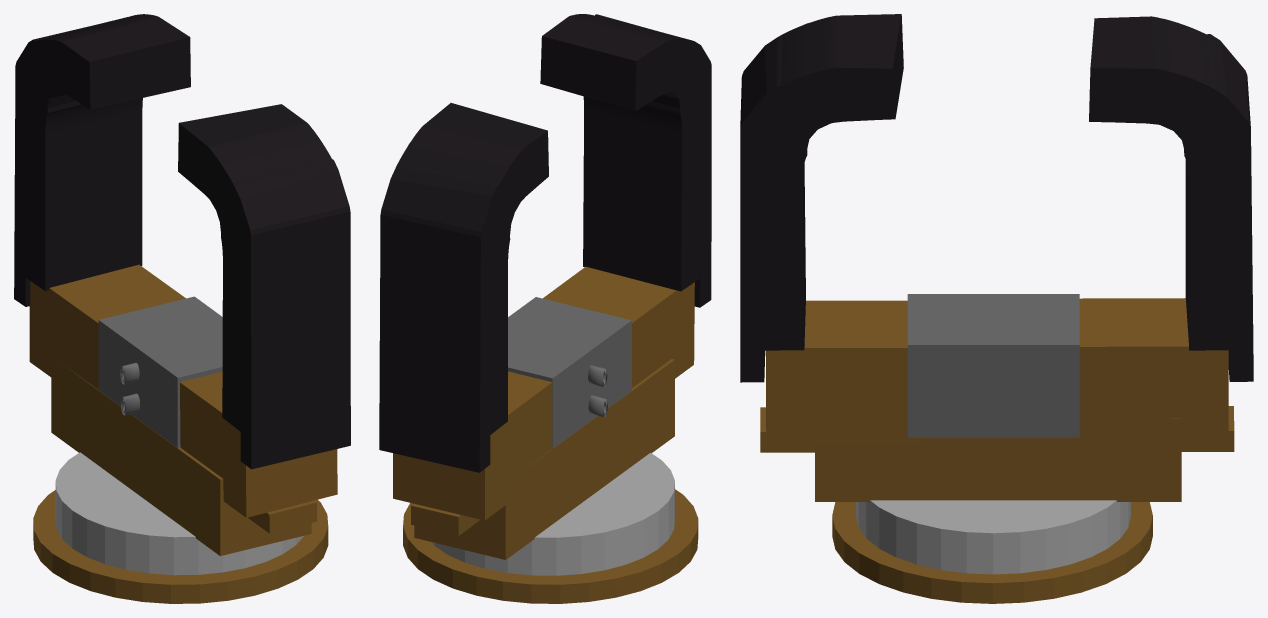
The model's file is gripper_colored.fbx.
3 views of the same model, side by side, from view 1: azimuth 30°, elevation 25°; view 2: azimuth 150°, elevation 25°; view 3: azimuth 270°, elevation 25° (orthographic). The views are drawn at different scales.
Visible parts, largest first — view 1: Cylinder.003; view 2: Cylinder.003; view 3: Cylinder.003.
Part boxes in pixels (left/top/right/bottom): Cylinder.003: left=14, top=14, right=350, bottom=603; Cylinder.003: left=379, top=14, right=711, bottom=603; Cylinder.003: left=740, top=14, right=1253, bottom=603.
Bounding box in the file's own units: 7 × 12.02 × 11.21.
